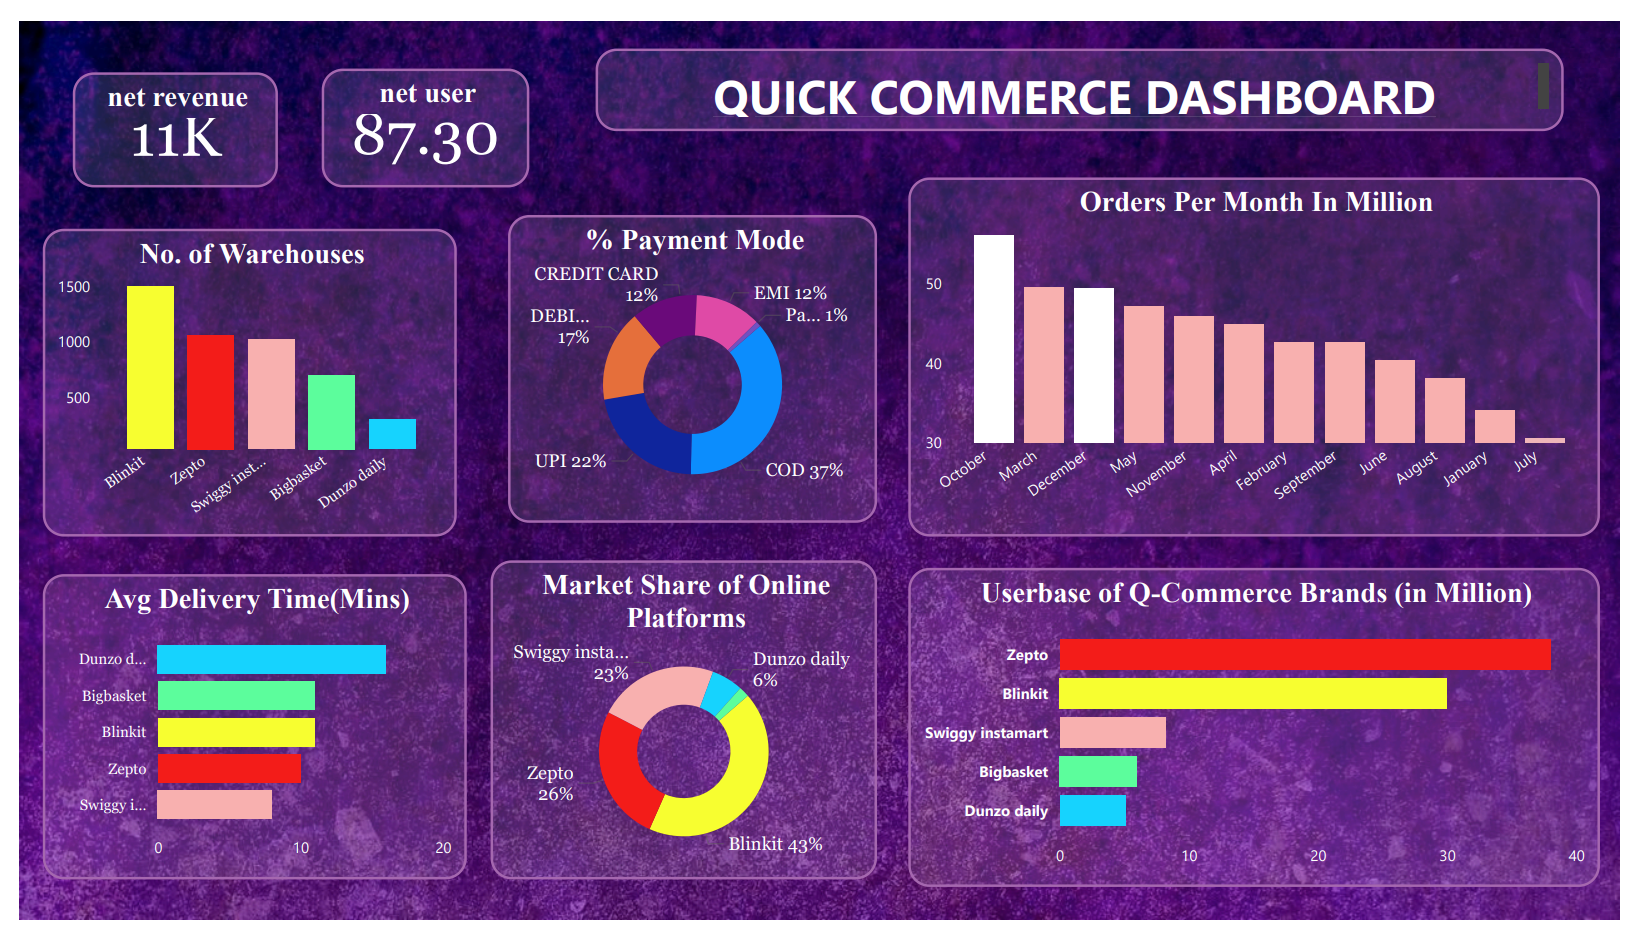

The dashboard page shown, as its layout file describes it:
{"tool":"powerbi","page":{"name":"Page 1","canvas":[1280,720],"ordinal":0},"visuals":[{"type":"textbox","box":[461.1,22,773.9,65.9],"z":0},{"type":"columnChart","title":" Orders Per Month In Million","fields":{"Category":["Sheet1.Month"],"Y":["Sum(Sheet1.Number of Orders)"]},"box":[710.8,124.9,553,286.8],"z":1000},{"type":"clusteredBarChart","title":"Userbase of Q-Commerce Brands (in Million)","fields":{"Category":["company info.Online Platforms"],"Y":["Sum(company info.Userbase(in Million))"]},"box":[710.7,436.6,553.6,255.2],"z":2000},{"type":"donutChart","title":" Market Share of Online Platforms","fields":{"Y":["Sum(company info.Market Share)"],"Category":["company info.Online Platforms"]},"box":[377.4,430.9,308.7,255.2],"z":3000},{"type":"donutChart","title":"% Payment Mode","fields":{"Category":["Form Responses 1.Payment Mode"],"Y":["CountNonNull(Form Responses 1.Platform)"]},"box":[391.1,155.1,295,245.6],"z":4000},{"type":"card","title":"net revenue","fields":{"Values":["Sum(company info.Revenue(in Cr))"]},"box":[42.5,41.2,164.7,91.9],"z":5000},{"type":"card","title":"net user","fields":{"Values":["Sum(company info.Userbase(in Million))"]},"box":[241.5,38.4,166,94.7],"z":6000},{"type":"clusteredBarChart","title":"Avg Delivery Time(Mins)","fields":{"Category":["company info.Online Platforms"],"Y":["Sum(company info.Estimate Delivery Time)"]},"box":[19.2,441.9,338.9,244.3],"z":7000},{"type":"columnChart","title":"No. of Warehouses","fields":{"Category":["company info.Online Platforms"],"Y":["Sum(company info.Micro-warehouses)"]},"box":[43,155.8,330.2,245.3],"z":8000}]}

Visuals, with their boxes in screenshot pixels (x1, y1, x2, y2), scaled from the page's 1280x720 canvas onto the 1641x940 screenshot:
textbox: pyautogui.locateOnScreen(591, 29, 1583, 115)
" Orders Per Month In Million" columnChart: pyautogui.locateOnScreen(911, 163, 1620, 537)
"Userbase of Q-Commerce Brands (in Million)" clusteredBarChart: pyautogui.locateOnScreen(911, 570, 1621, 903)
" Market Share of Online Platforms" donutChart: pyautogui.locateOnScreen(484, 563, 880, 896)
"% Payment Mode" donutChart: pyautogui.locateOnScreen(501, 202, 880, 523)
"net revenue" card: pyautogui.locateOnScreen(54, 54, 266, 174)
"net user" card: pyautogui.locateOnScreen(310, 50, 522, 174)
"Avg Delivery Time(Mins)" clusteredBarChart: pyautogui.locateOnScreen(25, 577, 459, 896)
"No. of Warehouses" columnChart: pyautogui.locateOnScreen(55, 203, 478, 524)
